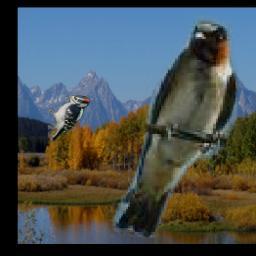Swallow: (110, 16, 238, 238)
Woodpecker: (49, 94, 91, 143)
